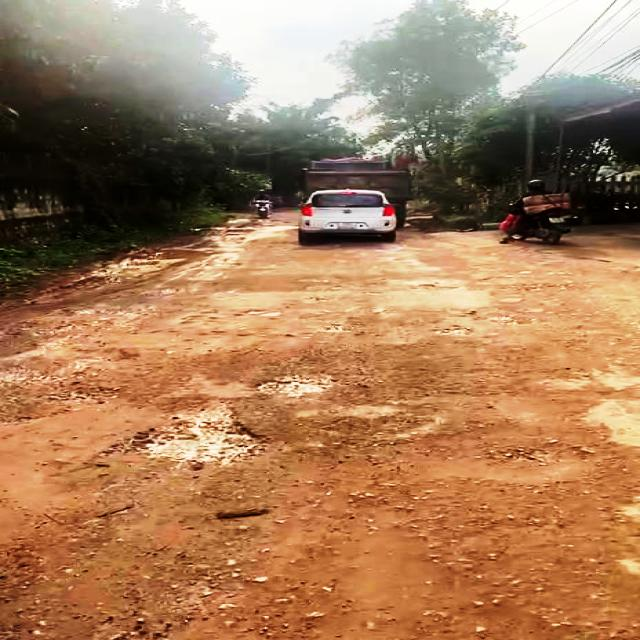pothole: (393, 425, 607, 484), (0, 349, 135, 421), (123, 415, 276, 471), (258, 372, 346, 399), (429, 328, 474, 338)
